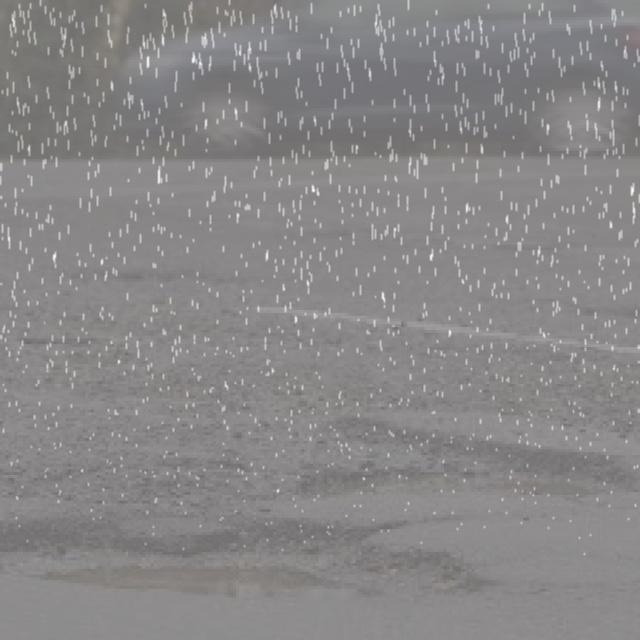Pothole: (0, 401, 640, 640)
